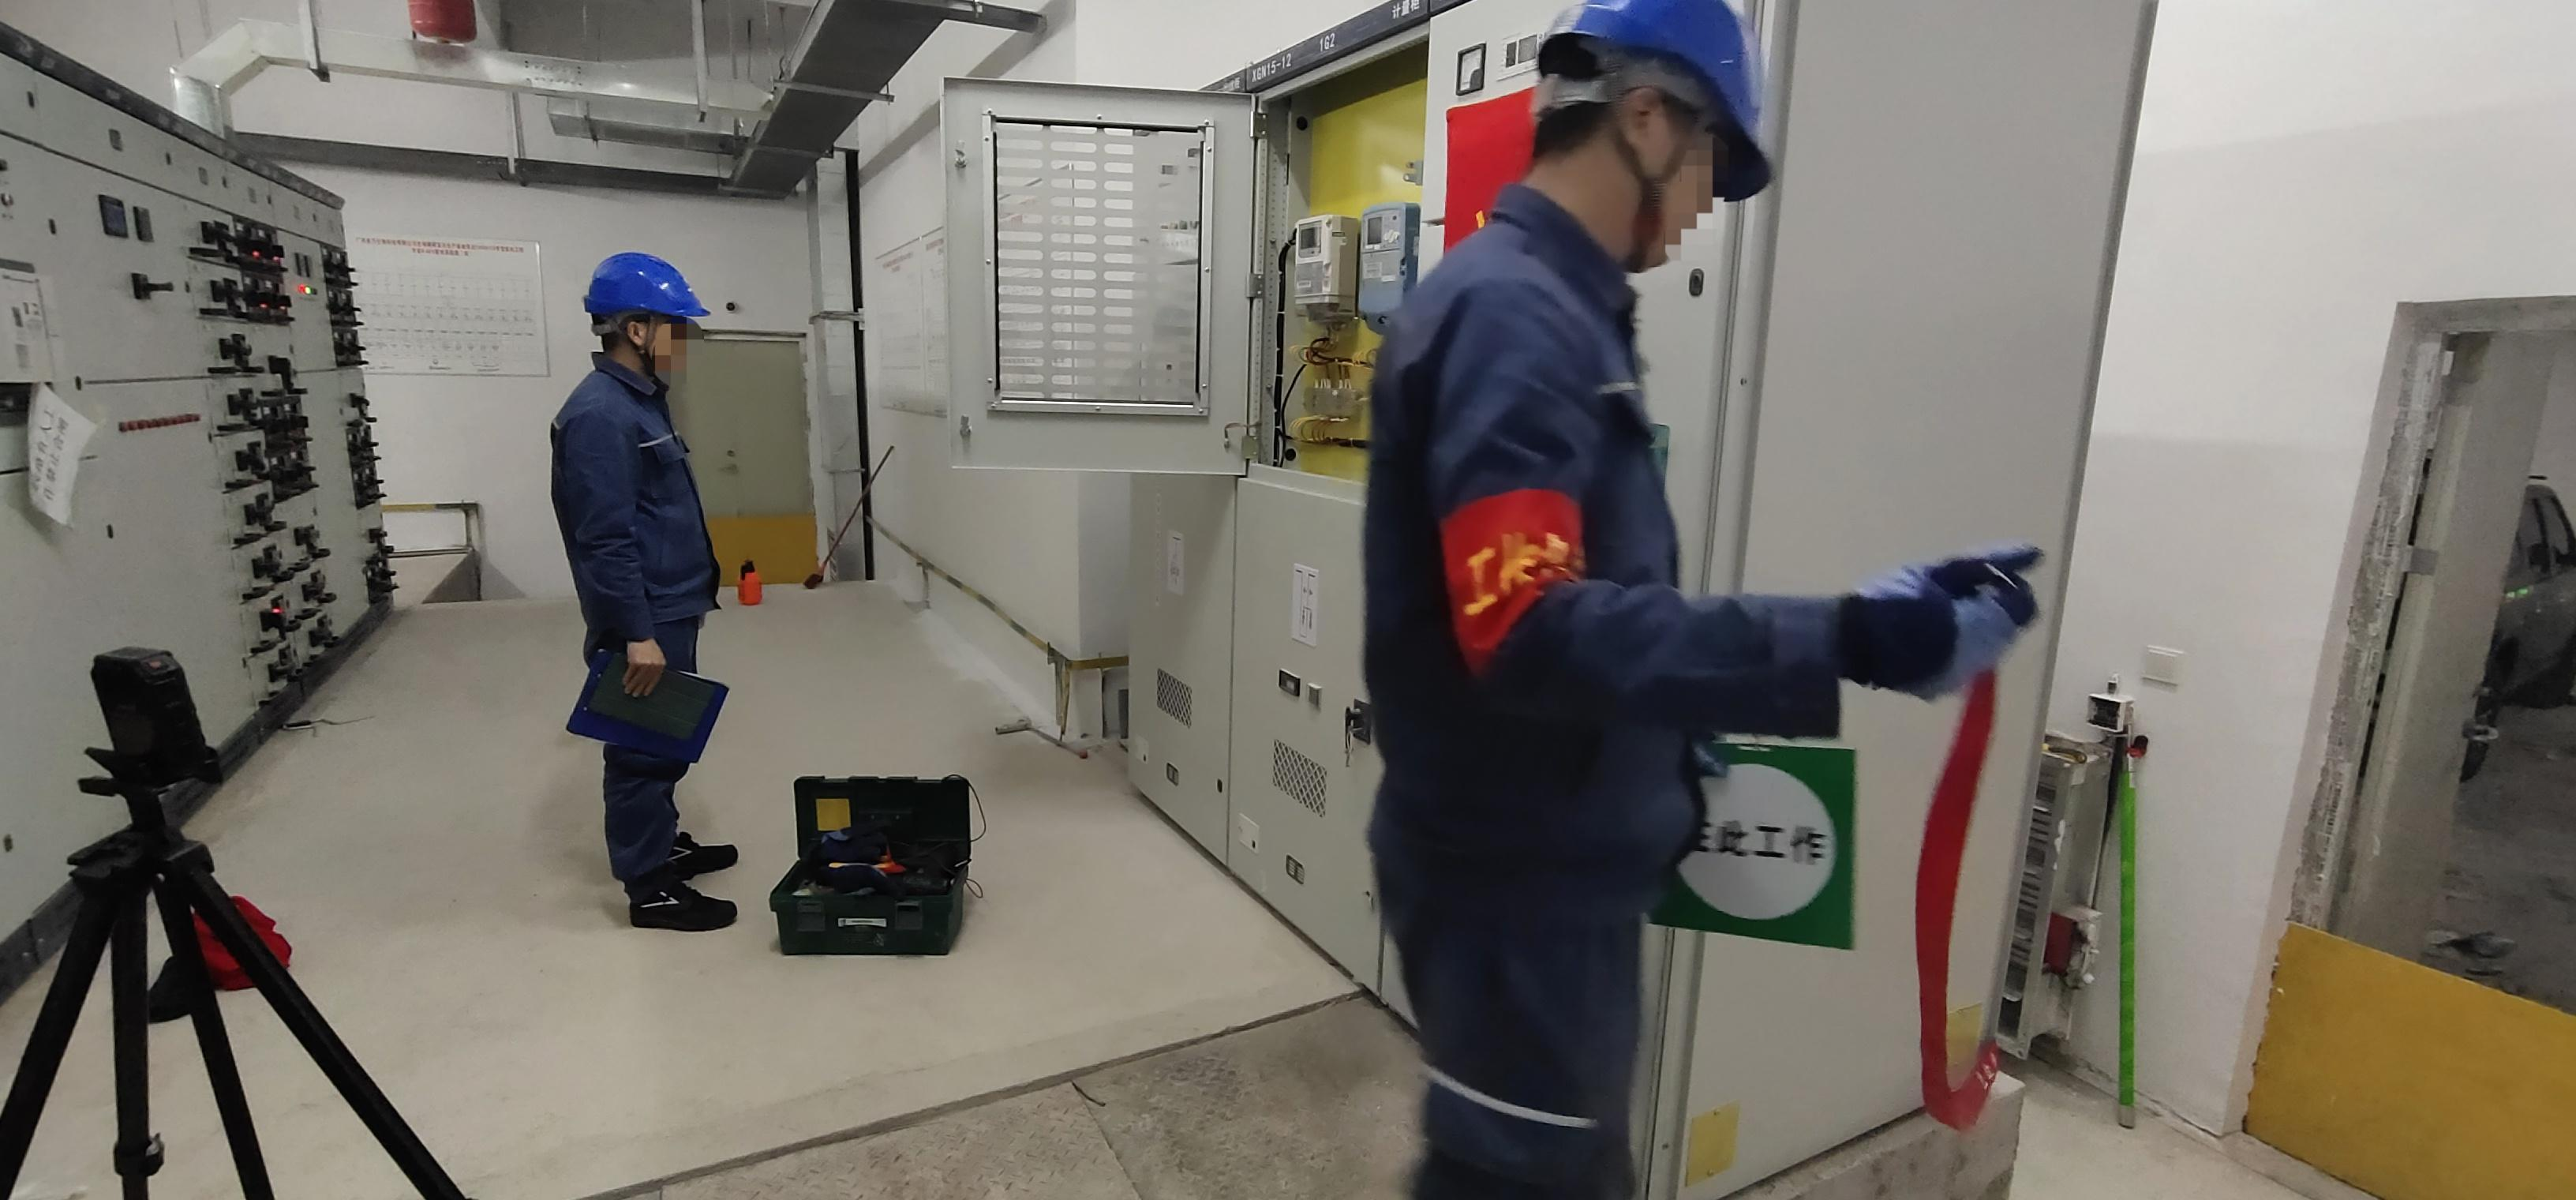halt: (1525, 2, 1771, 276), (583, 250, 711, 380)
inear: (1587, 72, 1707, 245), (613, 317, 667, 372)
